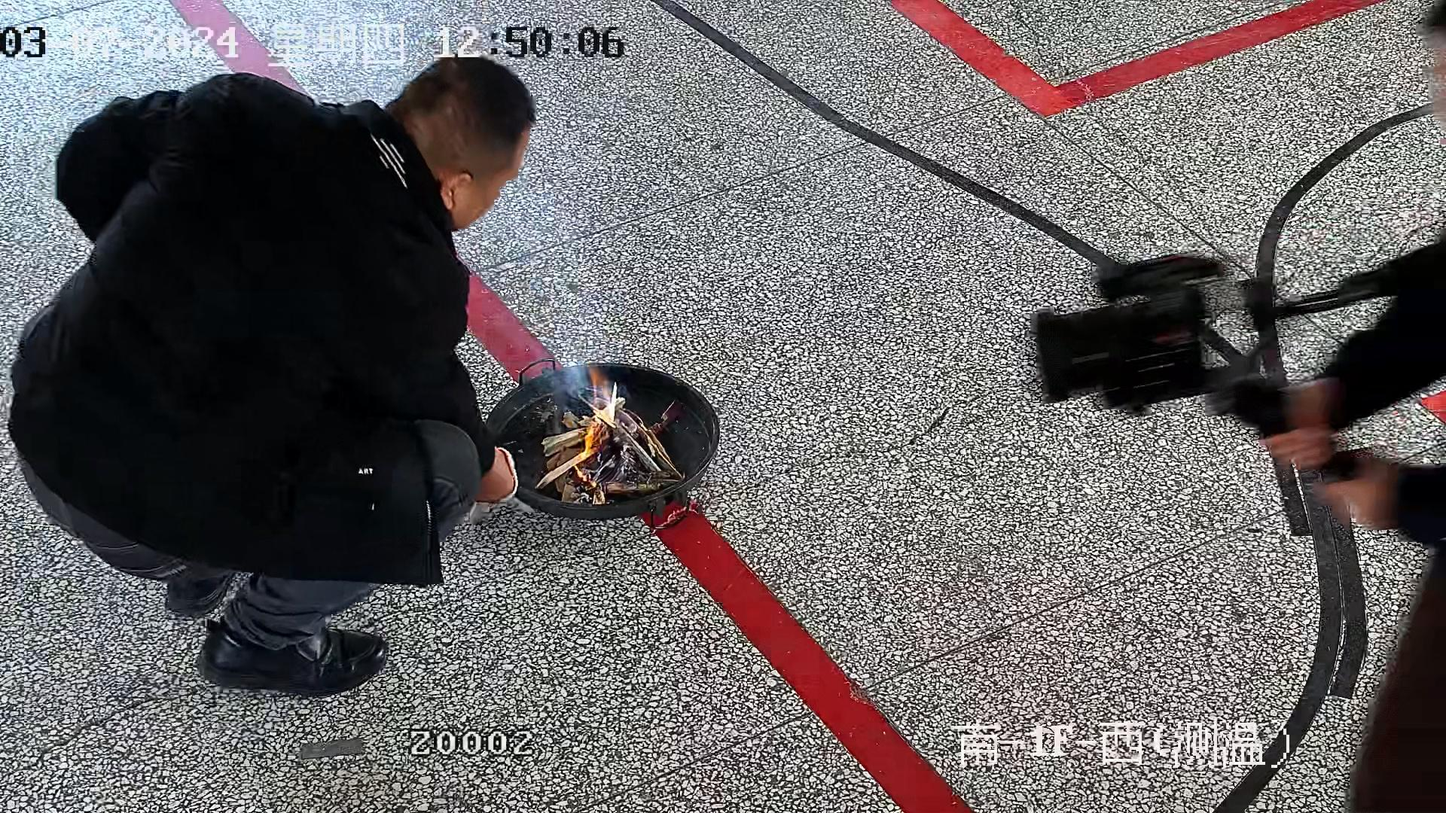fire: (581, 367, 625, 458)
